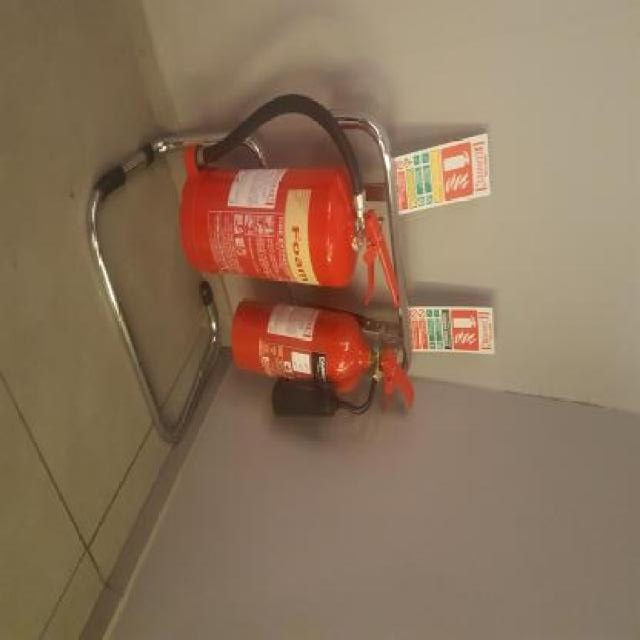fire extinguisher: (181, 95, 402, 312), (229, 297, 416, 429)
